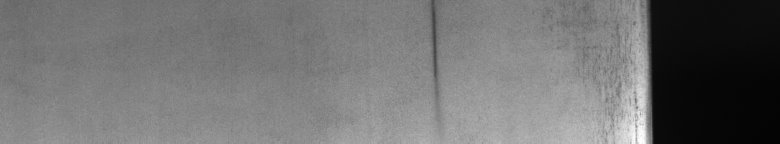hd: (425, 4, 444, 116)
